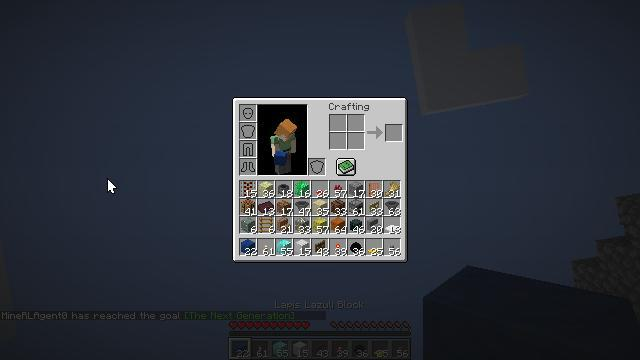cursor: (107, 178, 117, 194)
